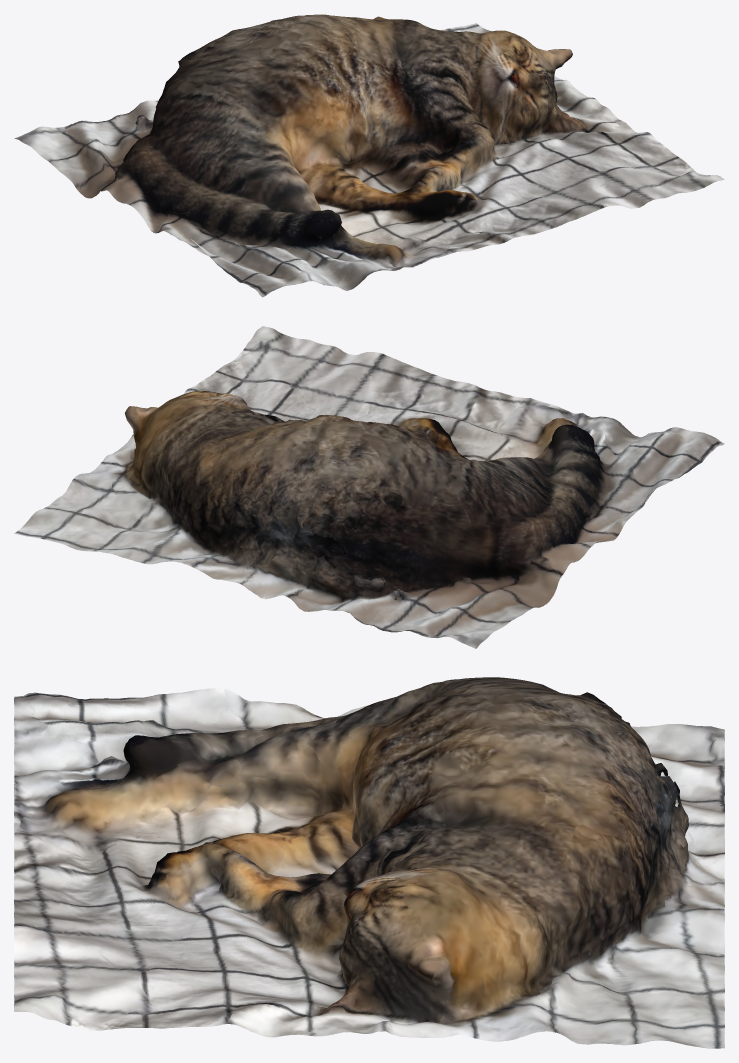
File: modelDraco.gltf
3 views of the same model, one above another, from view 1: azimuth 30°, elevation 25°; view 2: azimuth 150°, elevation 25°; view 3: azimuth 270°, elevation 25° (orthographic). The views are drawn at different scales.
Parts seen in each view (by area): view 1: Object_4; view 2: Object_4; view 3: Object_4.
Part boxes in pixels (x1,y1,x2,y2): Object_4: (14, 14, 724, 297); Object_4: (14, 326, 724, 648); Object_4: (14, 677, 724, 1048).
Size of the model in its own units: 0.5368 by 0.1329 by 0.4999.
1 material, 1 textured.
